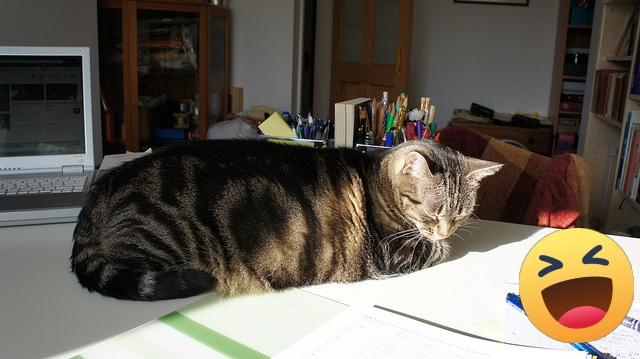haha: (519, 228, 634, 343)
